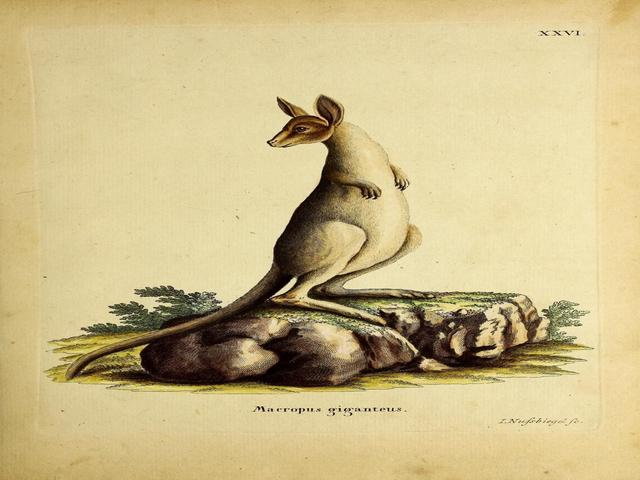kangaroo: (60, 64, 478, 397)
